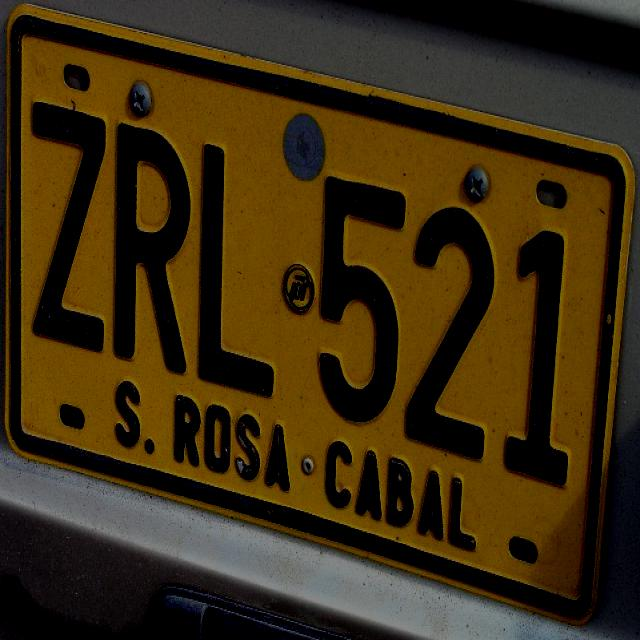placa: (2, 1, 638, 636)
